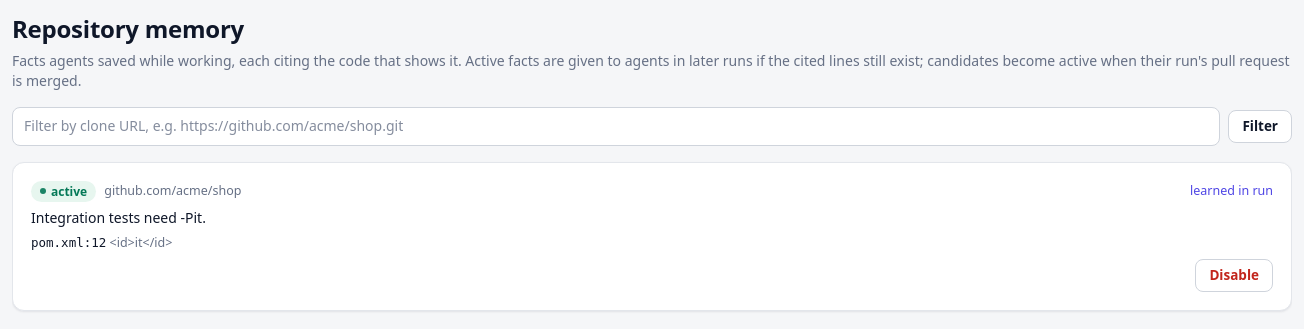
Test case: MemoryPage › lists facts and lets approvers disable one
Check: the text "Integration tests need -Pit." is shown, box [31,208,206,227]
Check: the text "pom.xml:12" is shown, box [31,235,106,250]
Step 1. Click the button "Disable" → (1234, 275), box [1195,258,1273,292]
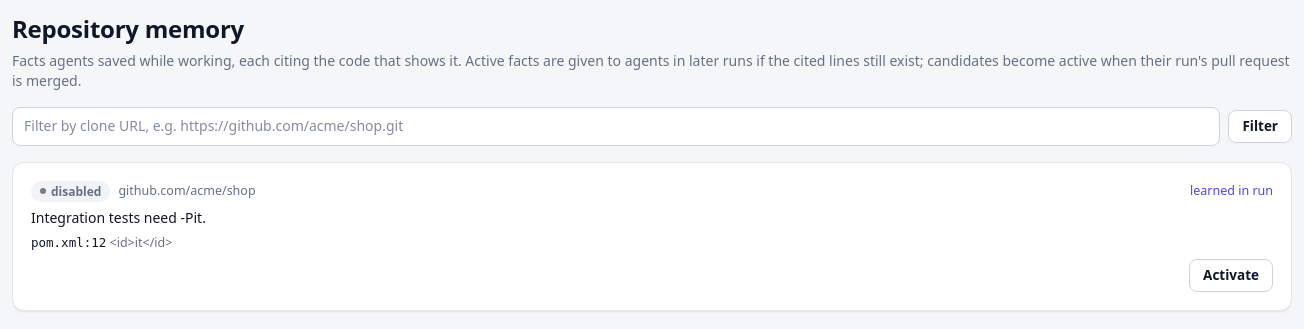
Check: the text "disabled" is shown, box [31,181,110,202]
